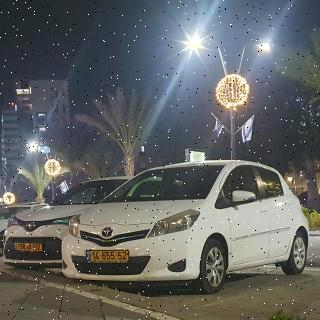LicensePlate: (91, 250, 128, 261), (17, 243, 42, 251)
